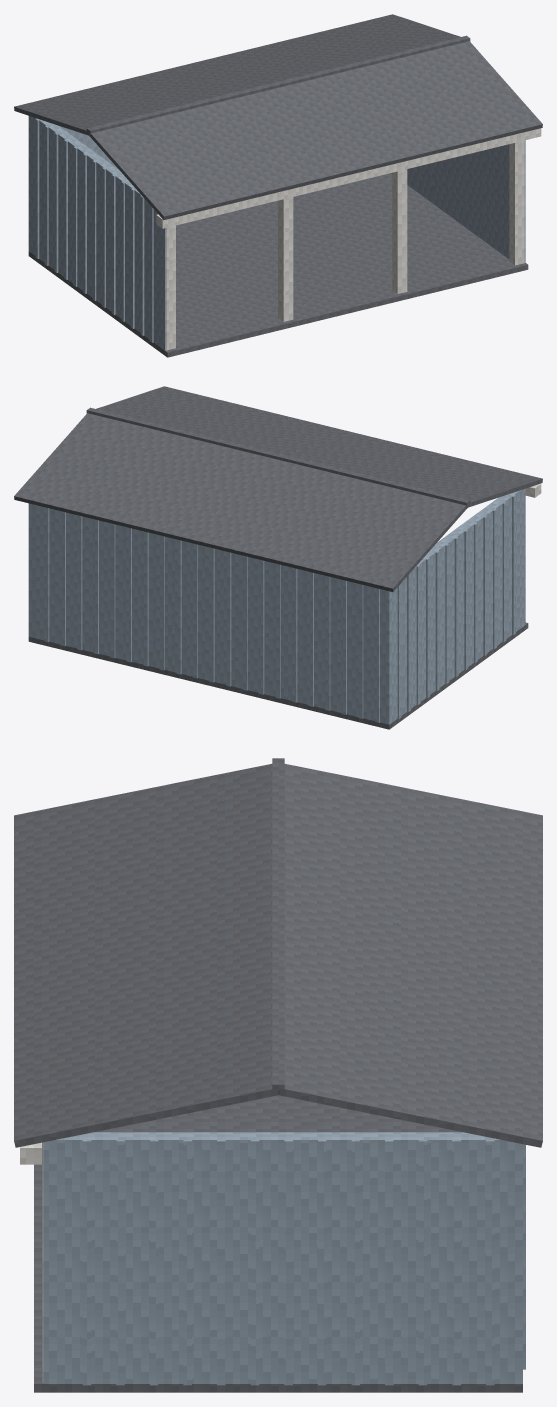
Rendered from pixel-modern-farm-machinery-shed-72fe305a__29100.glb.
The picture shows the model from 3 angles, top to bottom: view 1: azimuth 30°, elevation 25°; view 2: azimuth 150°, elevation 25°; view 3: azimuth 270°, elevation 25°; orthographic projection. The views are drawn at different scales.
Parts seen in each view (by area): view 1: machinery-shed; view 2: machinery-shed; view 3: machinery-shed.
Boxes of the visible parts, x1,y1,x2,y2 form: machinery-shed: [14, 14, 542, 357]; machinery-shed: [14, 386, 542, 729]; machinery-shed: [14, 758, 542, 1392].
Size of the model in its own units: 12.64 by 5.71 by 8.66.
Materials: 3 (3 with a texture image).
